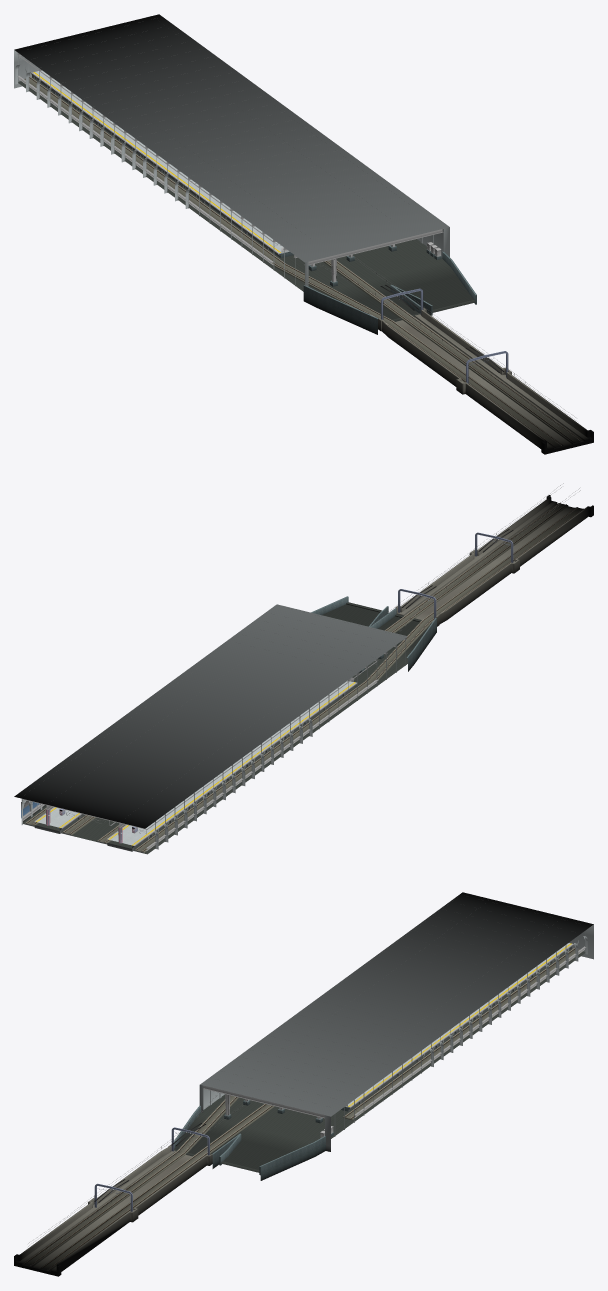
The model's file is TAKARA_ST.glb.
The picture shows the model from 3 angles, top to bottom: view 1: azimuth 30°, elevation 25°; view 2: azimuth 150°, elevation 25°; view 3: azimuth 330°, elevation 25°; orthographic projection. The views are drawn at different scales.
Visible parts, largest first — view 1: saku; view 2: saku; view 3: saku.
Part boxes in pixels (<box>): saku: <box>14,14,593,454</box>; saku: <box>14,483,593,854</box>; saku: <box>14,892,593,1276</box>.
Bounding box in the file's own units: 100 × 25.47 × 603.
Materials: 9 (8 with a texture image).
